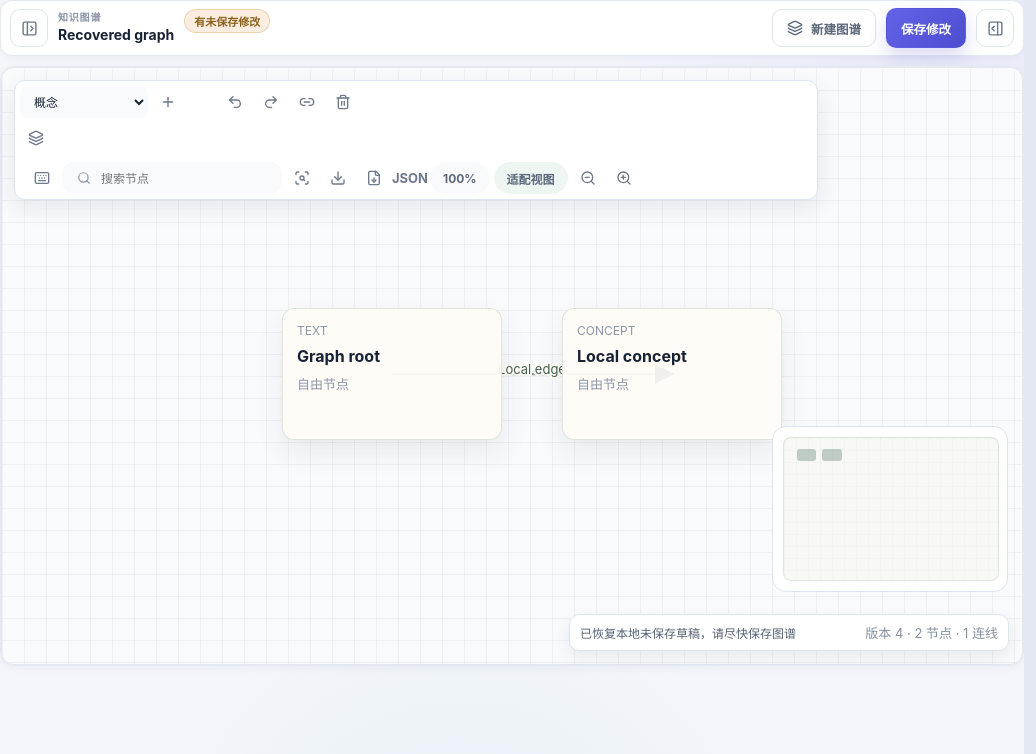
Test: GraphWorkspacePage conflict dependency guard › can batch-apply linked resolution suggestions to clear dependency blockers
Click the button "保存修改".
click(926, 28)  # box [886, 8, 966, 48]
(page scrolled)
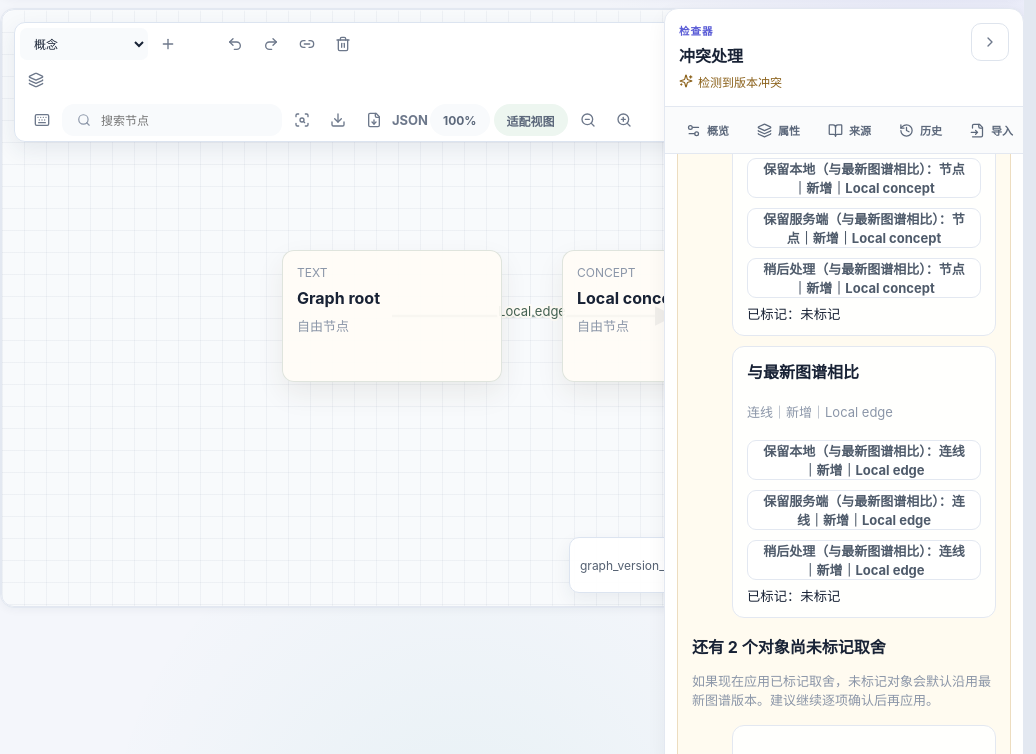
Check: the list item "连线｜新增｜Local edge" is shown, box [747, 404, 893, 420]
Click the button "保留本地（与最新图谱相比）：连线｜新增｜Local edge".
click(864, 460)  # box [747, 440, 981, 480]
(page scrolled)
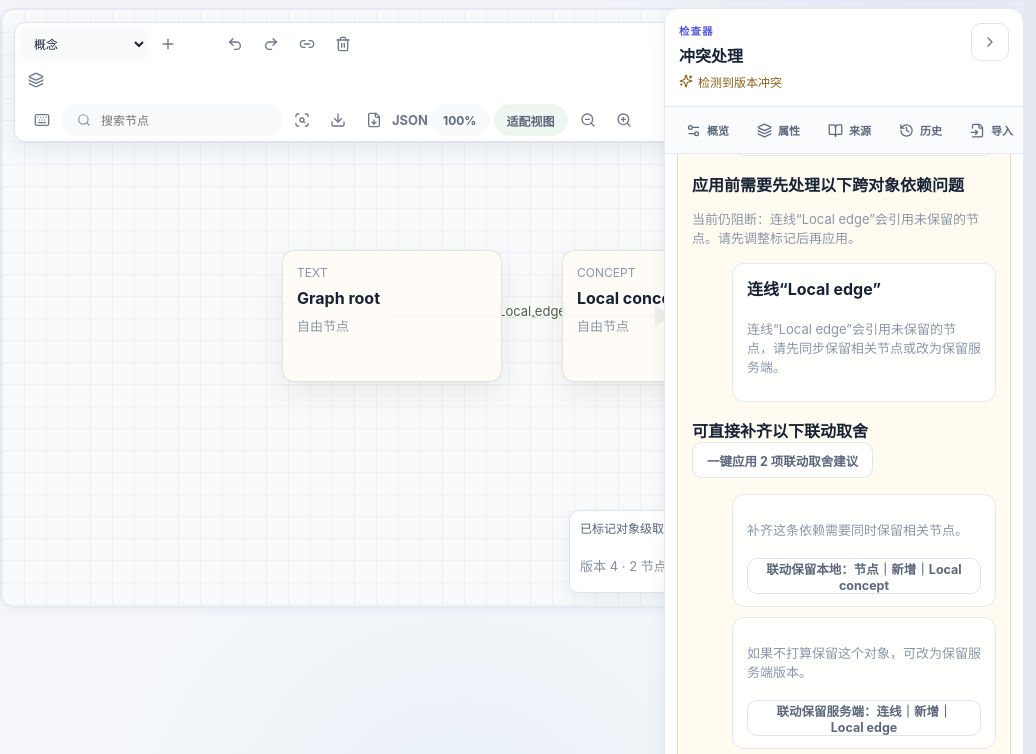
Click the button "一键应用 2 项联动取舍建议".
click(783, 460)  # box [692, 442, 873, 478]
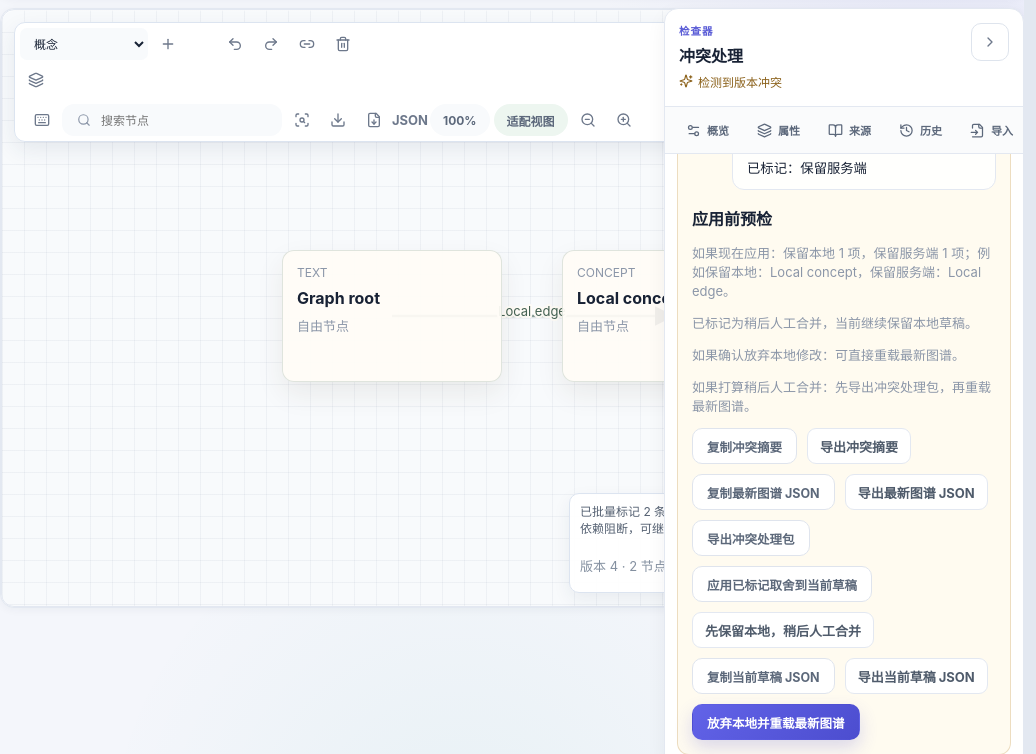
Check: the field labelled "取舍依赖校验问题" is gone
Check: the button "应用已标记取舍到当前草稿" is enabled, box [692, 566, 872, 602]
